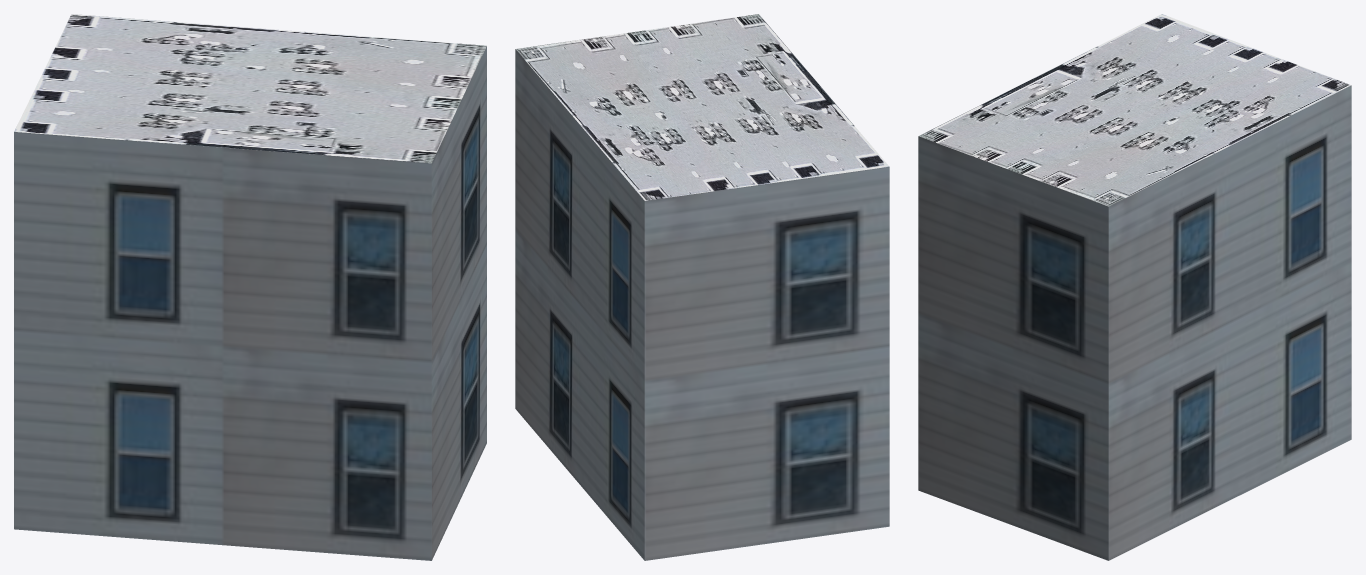
File: ResTex__4098.fbx
3 renders of one model, left to right at view 1: azimuth 30°, elevation 25°; view 2: azimuth 150°, elevation 25°; view 3: azimuth 270°, elevation 25°, orthographic. The views are drawn at different scales.
Visible parts, largest first — view 1: CityEngineMaterial_18_m, CityEngineMaterial_4_m; view 2: CityEngineMaterial_18_m, CityEngineMaterial_4_m; view 3: CityEngineMaterial_18_m, CityEngineMaterial_4_m.
Part boxes in pixels (<box>): CityEngineMaterial_18_m: <box>14,46,486,560</box>; CityEngineMaterial_4_m: <box>14,14,486,163</box>; CityEngineMaterial_18_m: <box>515,49,889,560</box>; CityEngineMaterial_4_m: <box>516,14,888,200</box>; CityEngineMaterial_18_m: <box>918,85,1351,560</box>; CityEngineMaterial_4_m: <box>918,14,1351,206</box>.
Size of the model in its own units: 7 by 6 by 6.65.
Materials: 2 (2 with a texture image).
